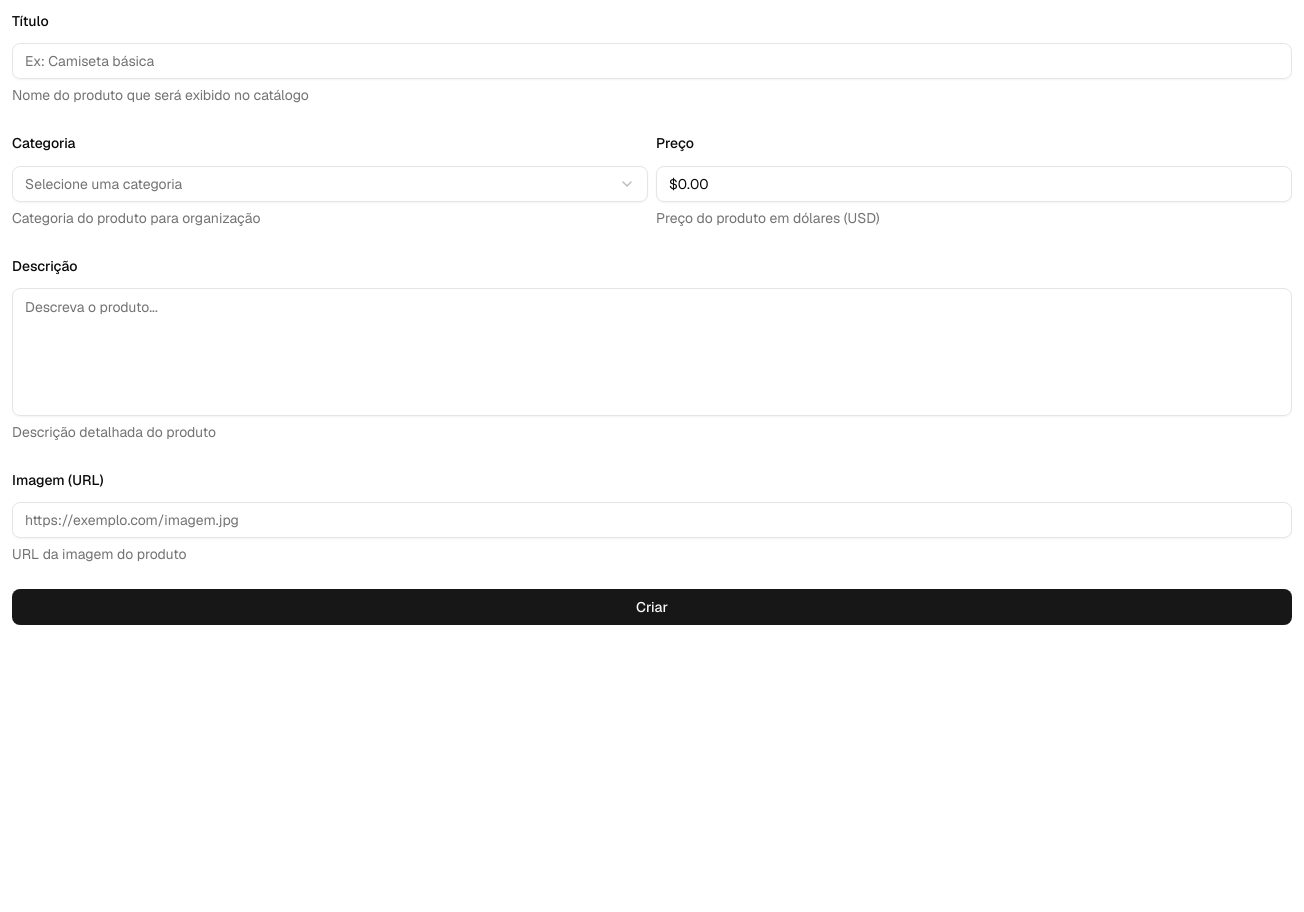
Test: ProductForm › Modo Criação › deve validar URL da imagem
Type "not-a-valid-url" into the field labelled "Imagem (URL)" at (652, 520), box [12,502,1292,538]
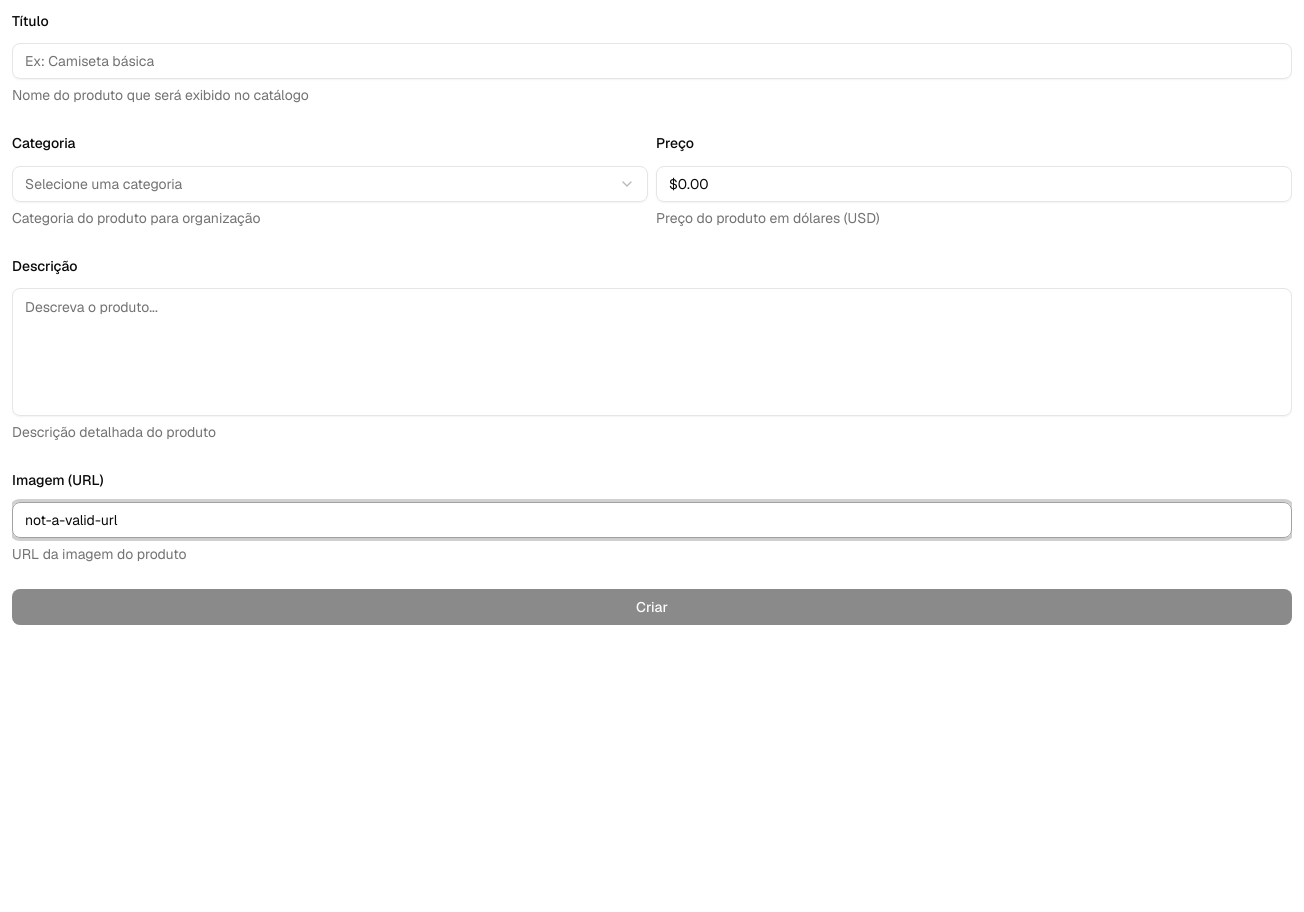
Press Tab
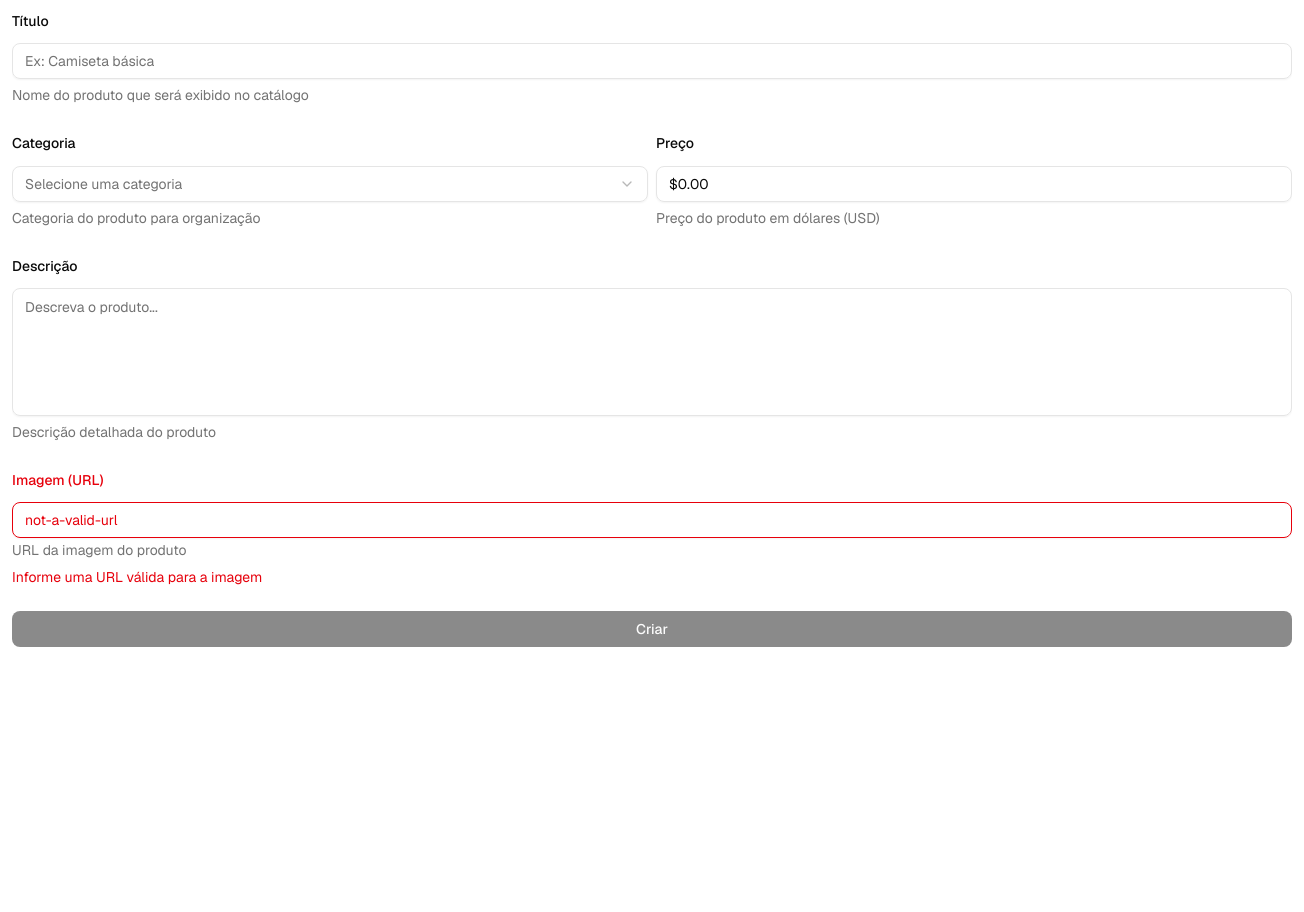
Expected: the text "Informe uma URL válida para a imagem" is shown, [12,568,262,586]
